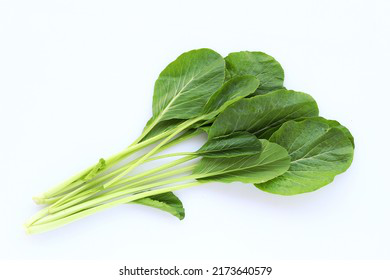Sawi: (66, 50, 374, 250)
